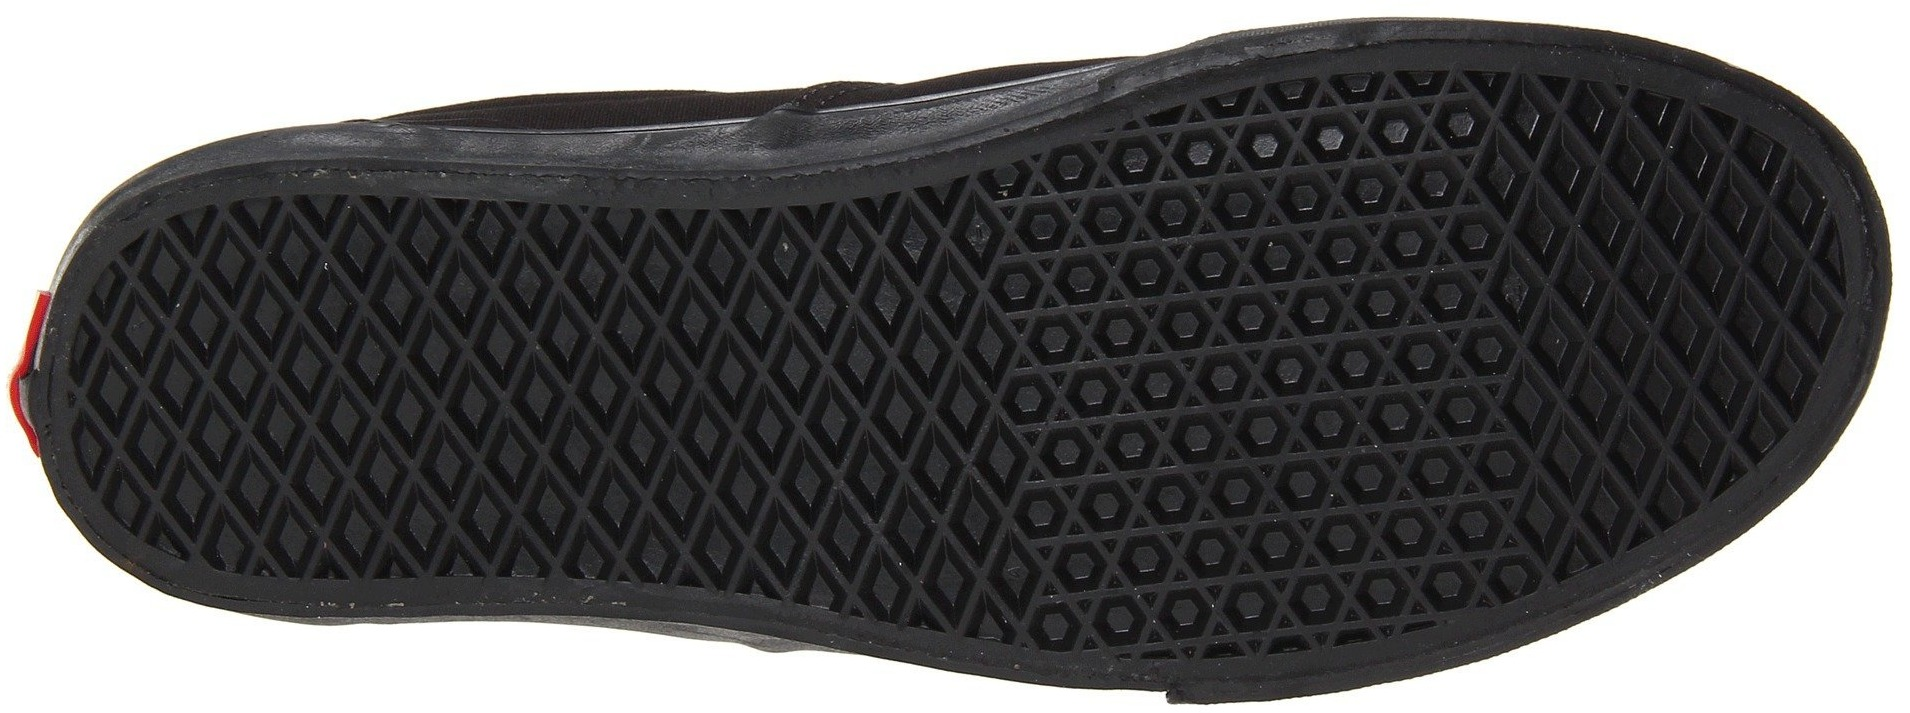polygon: (1017, 165, 1292, 414), (1057, 423, 1316, 648), (1312, 195, 1521, 418), (1327, 429, 1517, 606)
quad: (467, 233, 802, 558), (172, 233, 462, 537), (1538, 132, 1811, 431), (808, 213, 1022, 579)
triangle: (1017, 165, 1292, 414), (1057, 423, 1316, 648), (1312, 195, 1521, 418), (1327, 429, 1517, 606)
